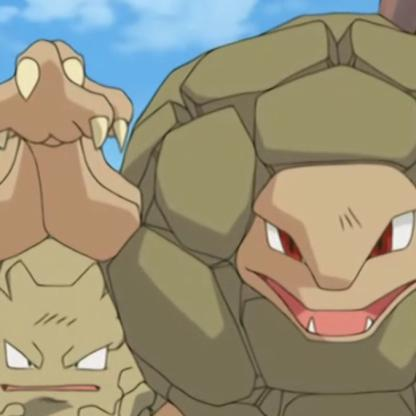Golem: (1, 18, 416, 416)
